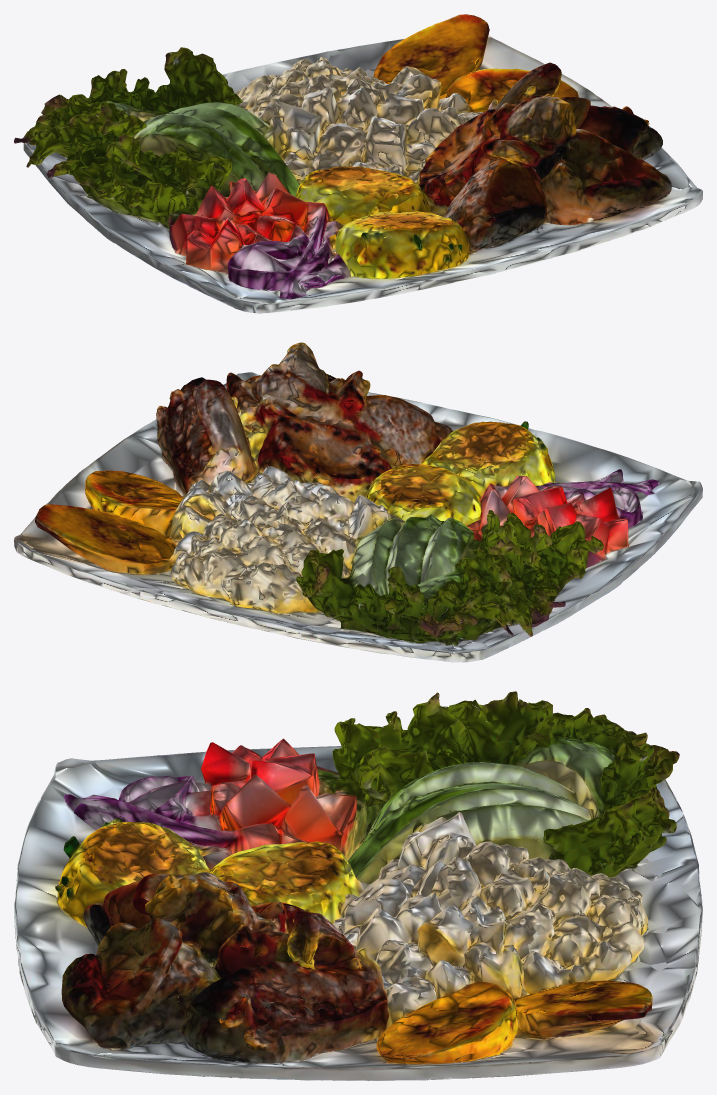
The model's file is fritada-lite.glb.
3 renders of one model, top to bottom at view 1: azimuth 30°, elevation 25°; view 2: azimuth 150°, elevation 25°; view 3: azimuth 270°, elevation 25°, orthographic. The views are drawn at different scales.
Visible parts, largest first — view 1: geometry_0; view 2: geometry_0; view 3: geometry_0.
Boxes of the visible parts, <box> form: geometry_0: <box>14,14,702,313</box>; geometry_0: <box>14,342,702,662</box>; geometry_0: <box>14,691,702,1080</box>.
Bounding box in the file's own units: 0.2624 × 0.065 × 0.2347.
Materials: 1 (1 with a texture image).
